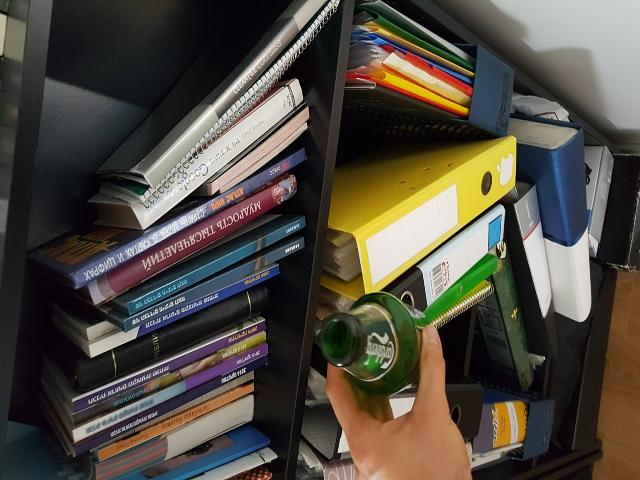beer: (322, 292, 430, 392)
